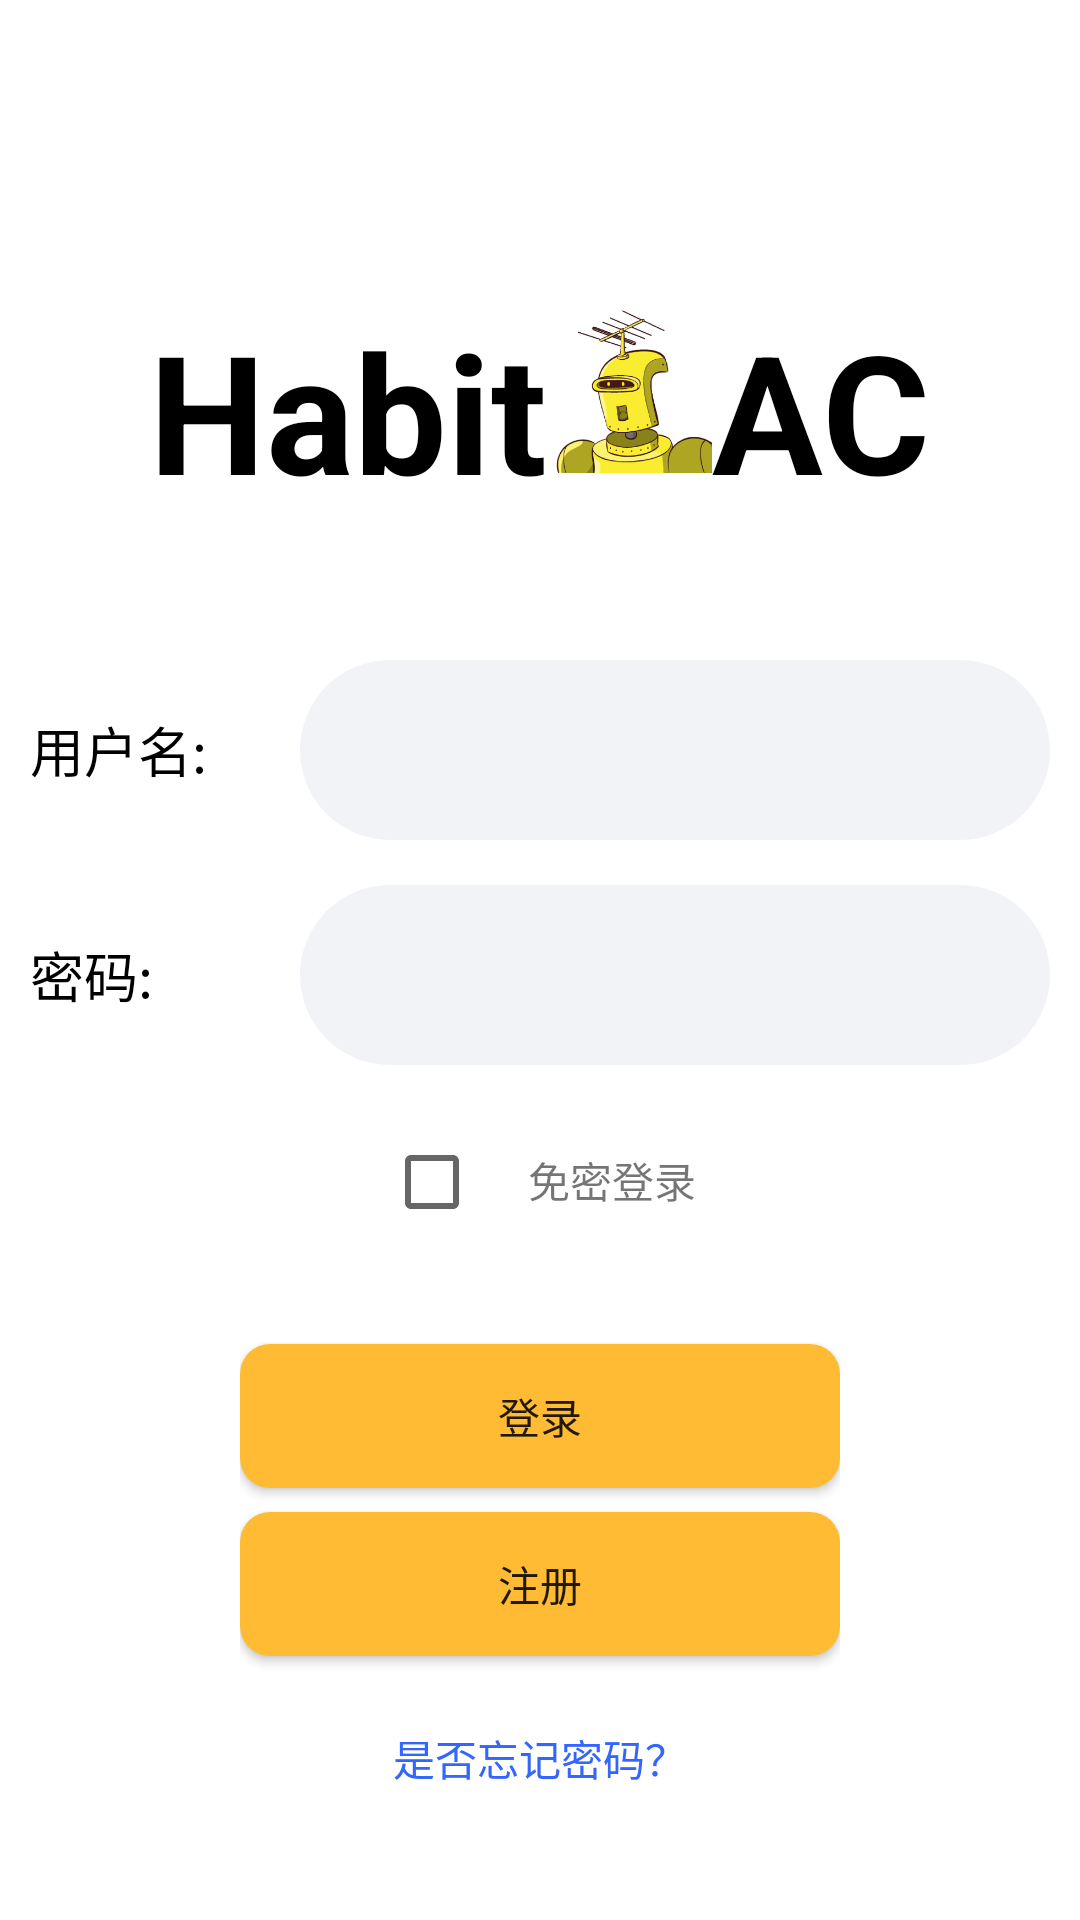

Locate icon controls on the screen. Image size 1080x1920, boxes as box(x1, y1, x2, y2).
robot: box(556, 310, 712, 473)
